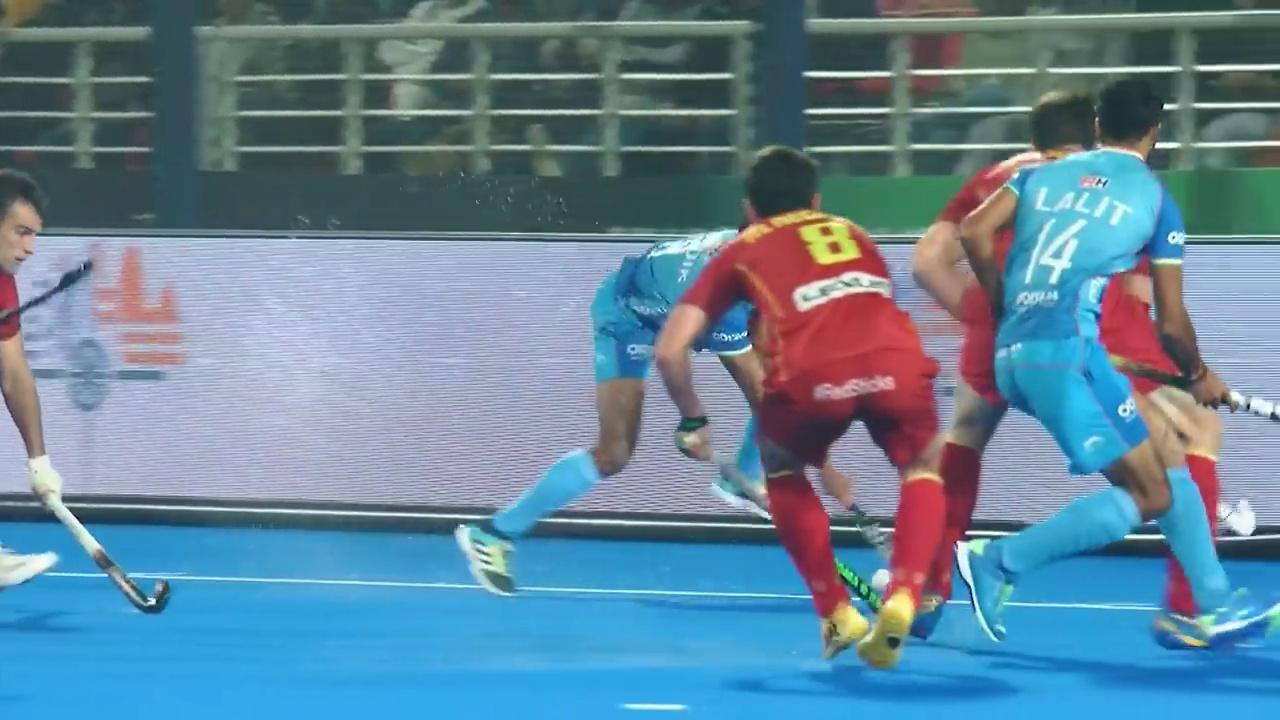ball: (864, 556, 898, 600)
